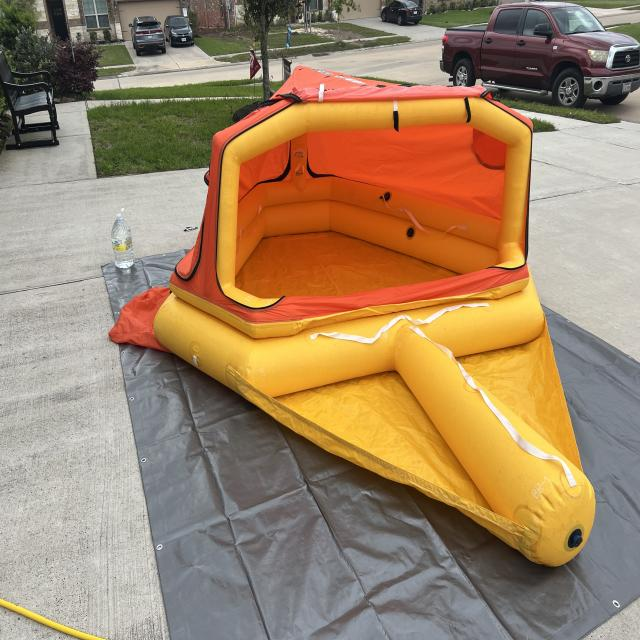Multi-person_life_raft: (107, 66, 597, 568)
